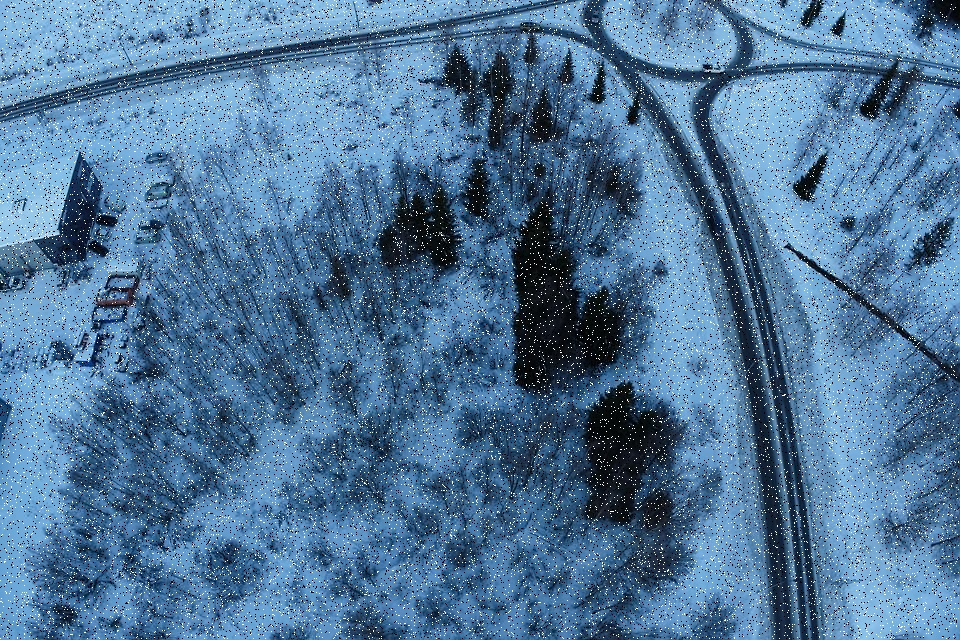roundabout: (539, 0, 809, 100)
